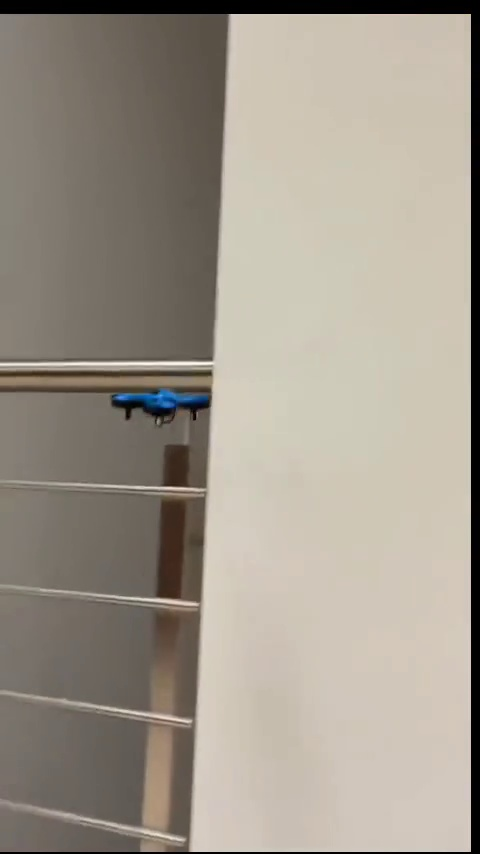drone: (112, 386, 218, 429)
